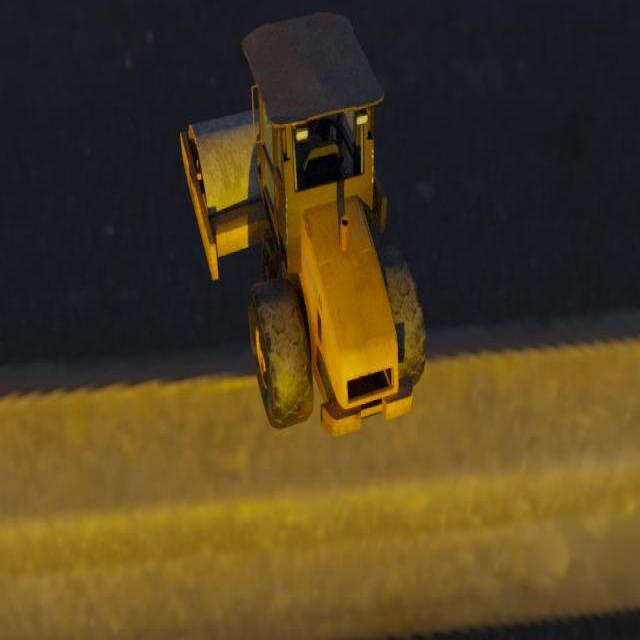Roller: (179, 12, 426, 437)
